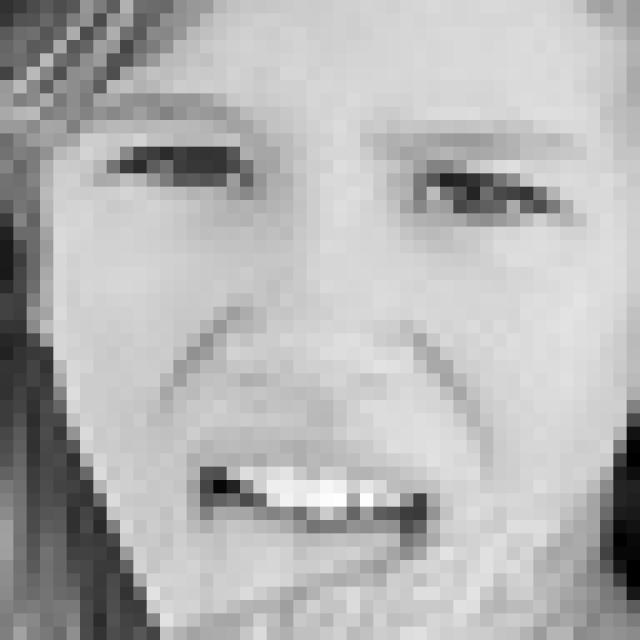disgust: (98, 86, 591, 640)
